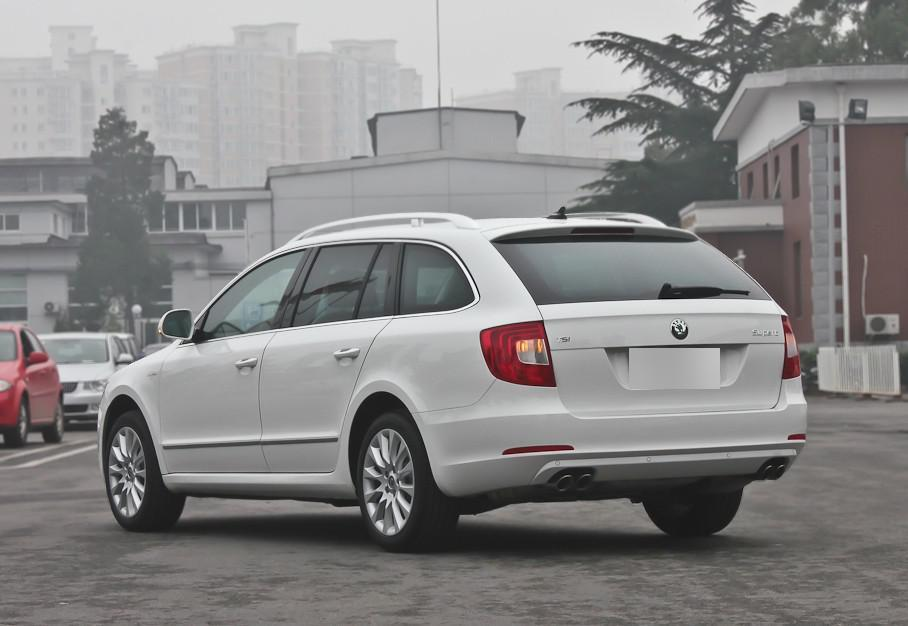Wagon: (97, 206, 807, 552)
